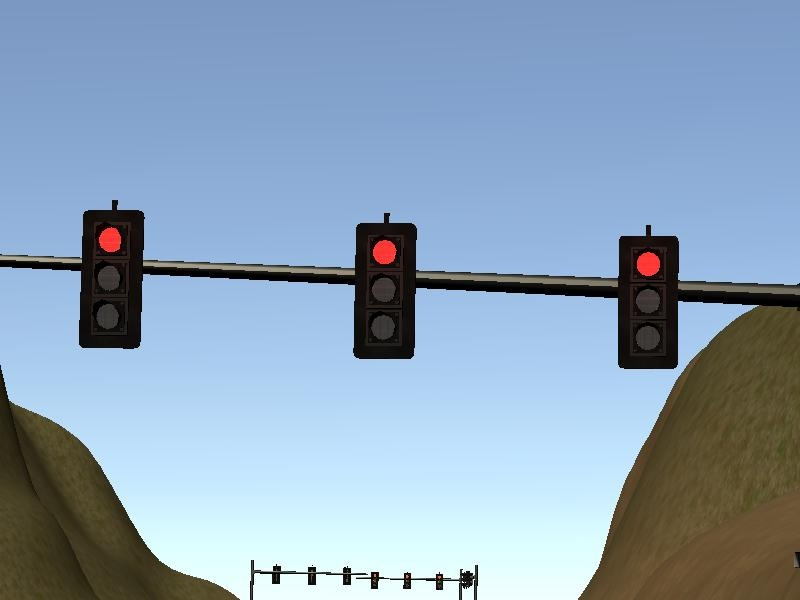RED: (76, 210, 144, 350), (617, 236, 680, 371), (351, 223, 414, 358)
